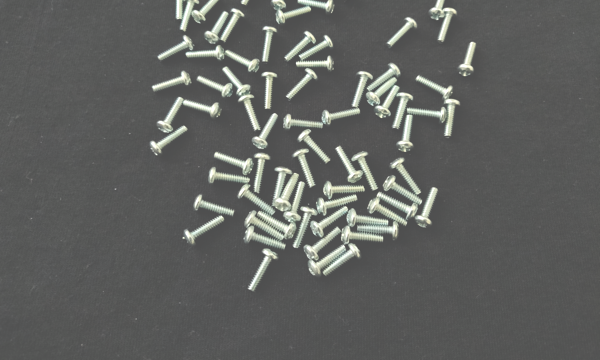shortscrew: (323, 243, 363, 278), (248, 248, 279, 293), (308, 245, 348, 279), (183, 216, 225, 247), (389, 157, 422, 196), (297, 129, 332, 165), (304, 227, 341, 261), (310, 206, 349, 238), (376, 193, 419, 222), (243, 211, 284, 241), (367, 198, 409, 227), (150, 126, 188, 158), (383, 176, 423, 206), (238, 185, 276, 216), (334, 145, 363, 185), (285, 68, 319, 102), (256, 212, 297, 240), (243, 226, 286, 252), (352, 151, 379, 192), (385, 17, 418, 50), (193, 194, 236, 219), (293, 206, 318, 249), (414, 187, 439, 230), (291, 148, 317, 189), (251, 113, 279, 151), (156, 35, 195, 62), (416, 75, 455, 102), (156, 97, 184, 134), (213, 151, 254, 176), (284, 30, 316, 62), (367, 63, 402, 92), (274, 173, 299, 213), (316, 195, 358, 218), (366, 78, 398, 108), (299, 35, 335, 61), (238, 94, 262, 133), (224, 49, 261, 74), (374, 86, 401, 120), (204, 11, 230, 46), (272, 165, 293, 208), (223, 67, 252, 98), (152, 71, 192, 93), (341, 226, 385, 246), (391, 93, 414, 131), (197, 75, 233, 99), (357, 221, 400, 241), (184, 98, 223, 120), (347, 209, 392, 228), (351, 71, 373, 109), (406, 106, 450, 125), (323, 181, 365, 200), (221, 8, 244, 42), (322, 108, 361, 128), (253, 153, 272, 194), (283, 114, 323, 133), (276, 6, 312, 27), (208, 167, 250, 185), (192, 0, 222, 25), (437, 8, 457, 45), (458, 42, 478, 78), (297, 56, 335, 74), (261, 73, 279, 111), (396, 115, 414, 153), (186, 45, 226, 62), (443, 99, 460, 139), (180, 0, 200, 33), (298, 0, 335, 16), (262, 26, 277, 64), (428, 0, 449, 21), (172, 0, 188, 19), (271, 0, 291, 10), (241, 0, 265, 6), (323, 0, 355, 3)
